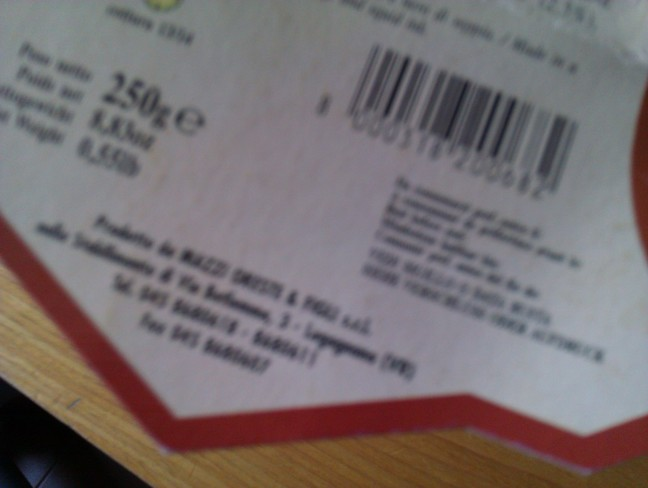barcode: (307, 31, 594, 208)
